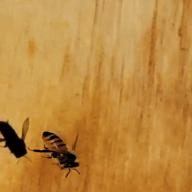Bee: (25, 127, 100, 178)
